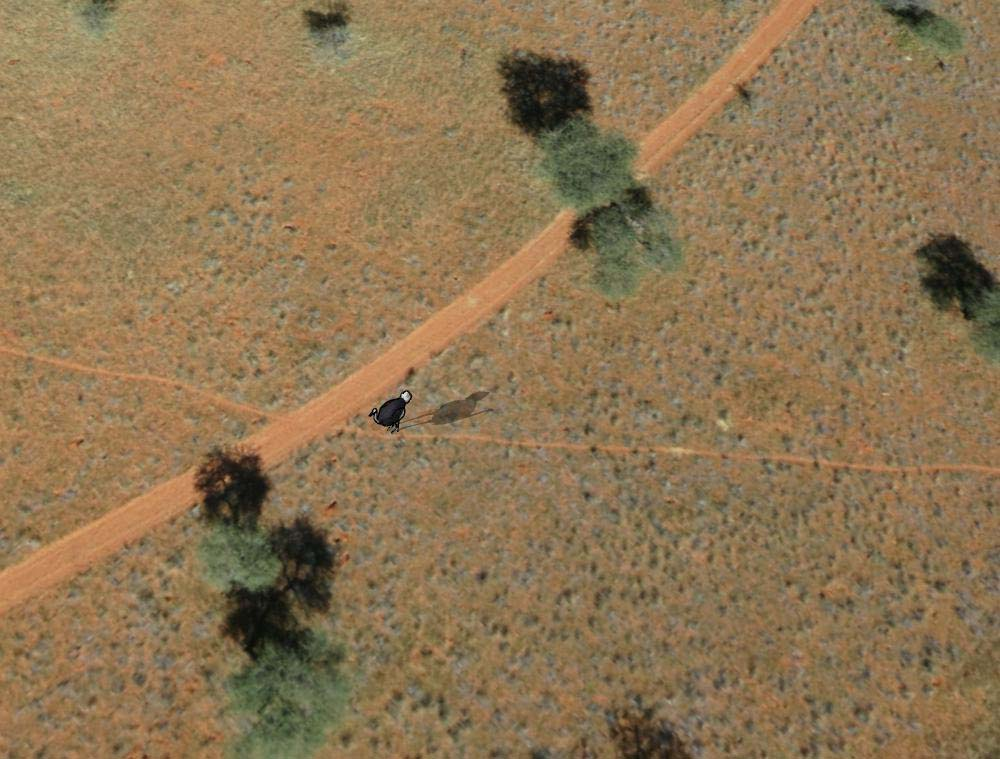springbok: (368, 383, 414, 435)
